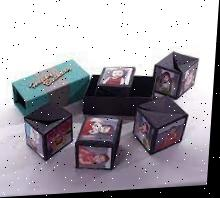cube: (135, 100, 191, 158), (23, 101, 76, 162), (75, 118, 124, 173), (153, 53, 202, 103)
